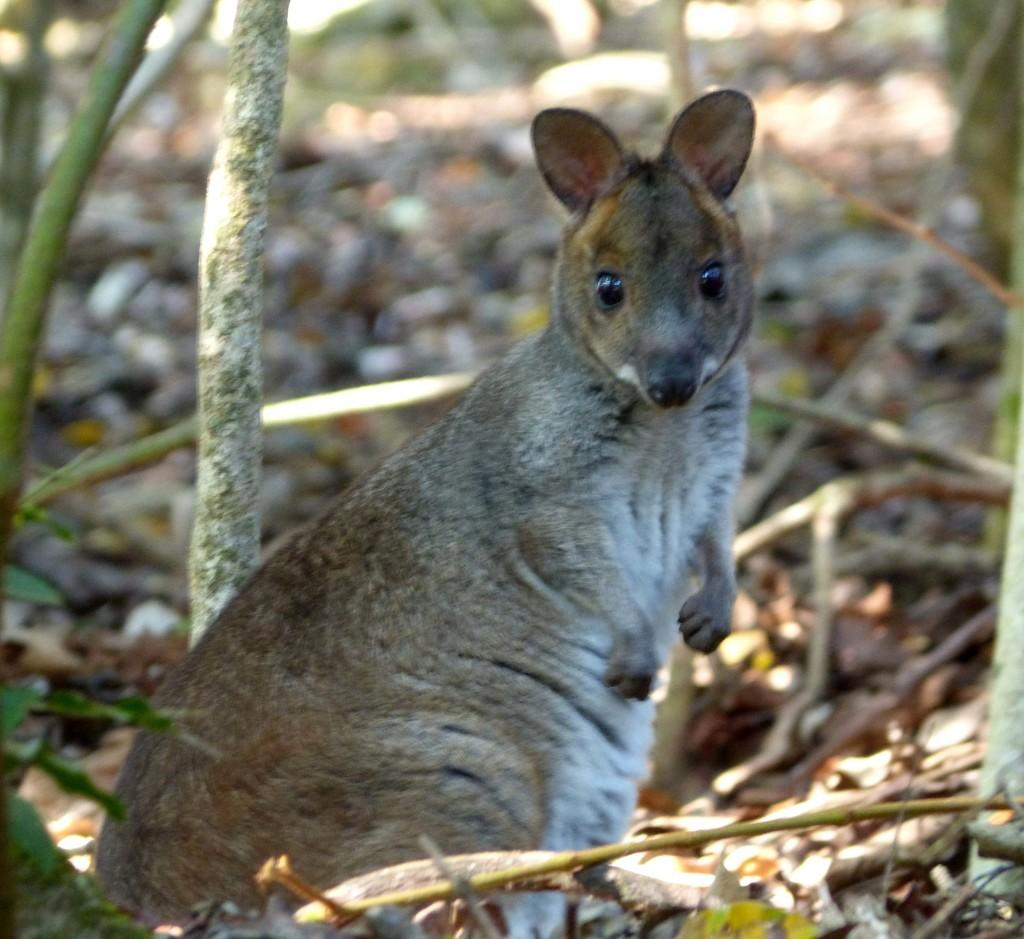kangaroo: (78, 87, 753, 938)
